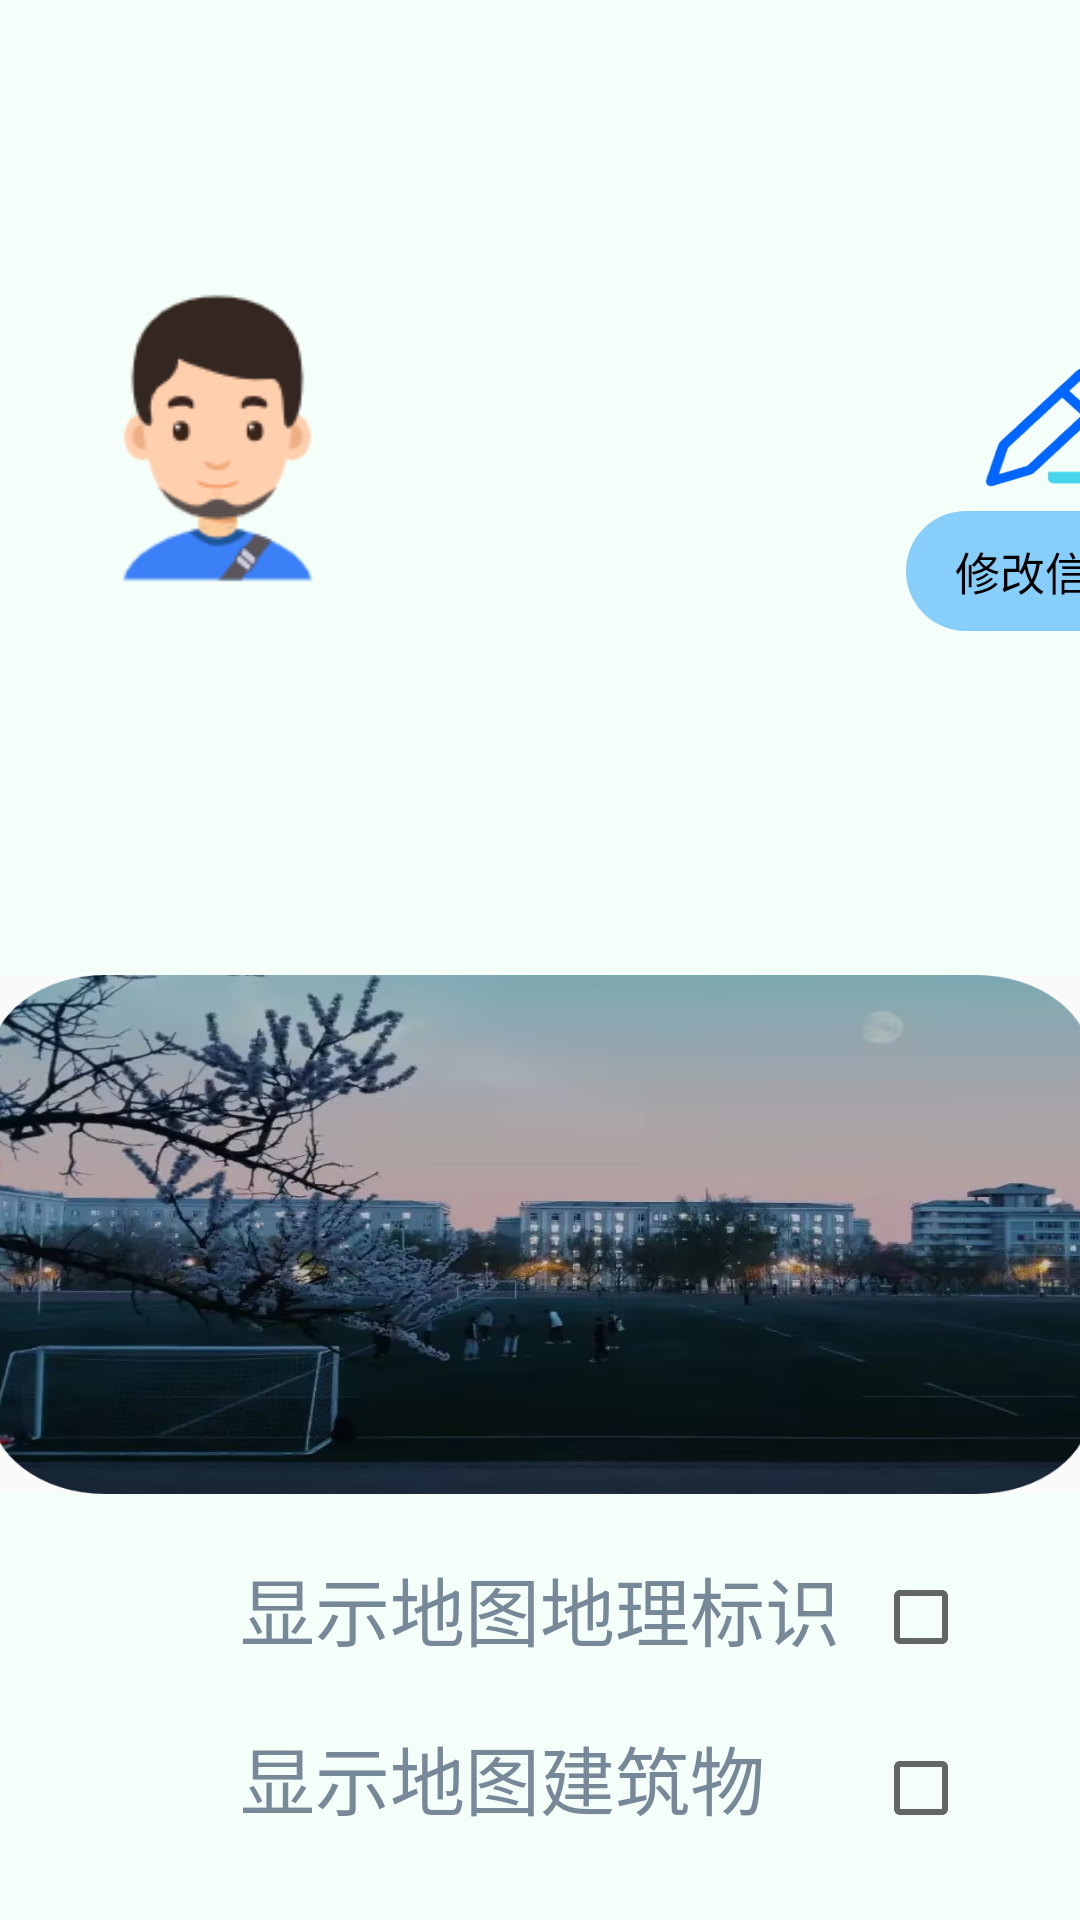

Screen size 1080 x 1920. Icon name, then its center in pixels as [x,y]:
driver page: [217,438]
